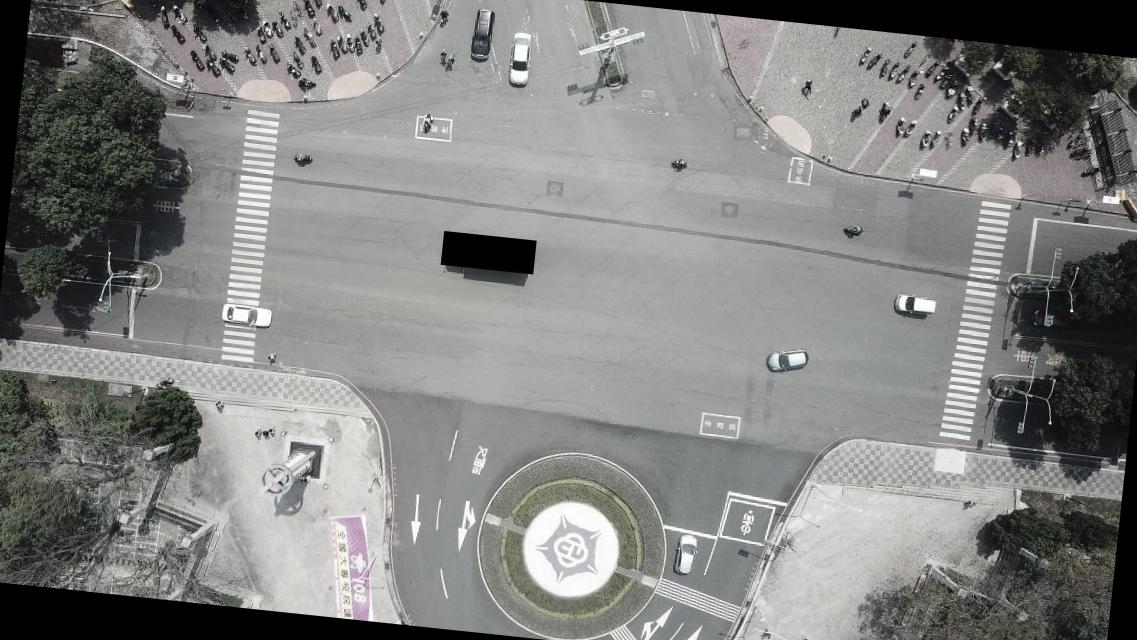vehicle: (505, 32, 534, 90), (219, 300, 275, 330), (764, 344, 810, 377), (468, 8, 494, 64), (892, 292, 939, 316), (673, 534, 699, 576), (1032, 306, 1075, 330)
